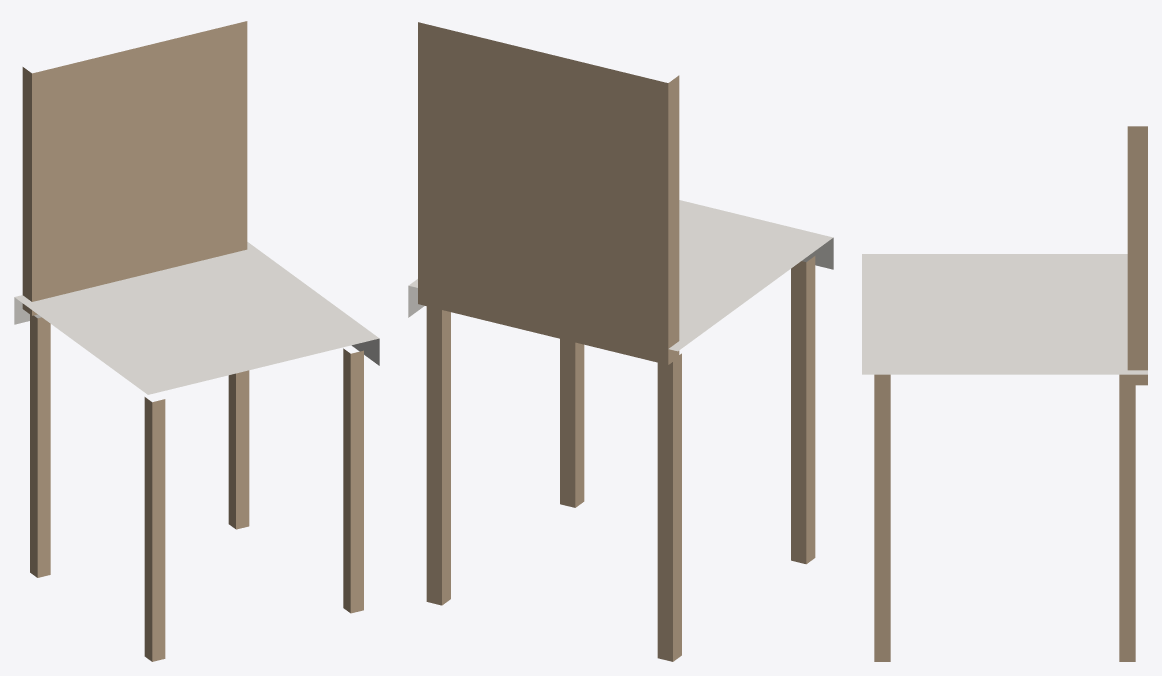
Rendered from dining_chair.glb.
3 renders of one model, left to right at view 1: azimuth 30°, elevation 25°; view 2: azimuth 150°, elevation 25°; view 3: azimuth 270°, elevation 25°, orthographic. The views are drawn at different scales.
Visible parts, largest first — view 1: RootNode; view 2: RootNode; view 3: RootNode.
Boxes of the visible parts, <box> form: RootNode: <box>14,21,379,661</box>; RootNode: <box>408,22,833,661</box>; RootNode: <box>862,126,1147,661</box>.
Bounding box in the file's own units: 1.4 × 2.9 × 1.4.
